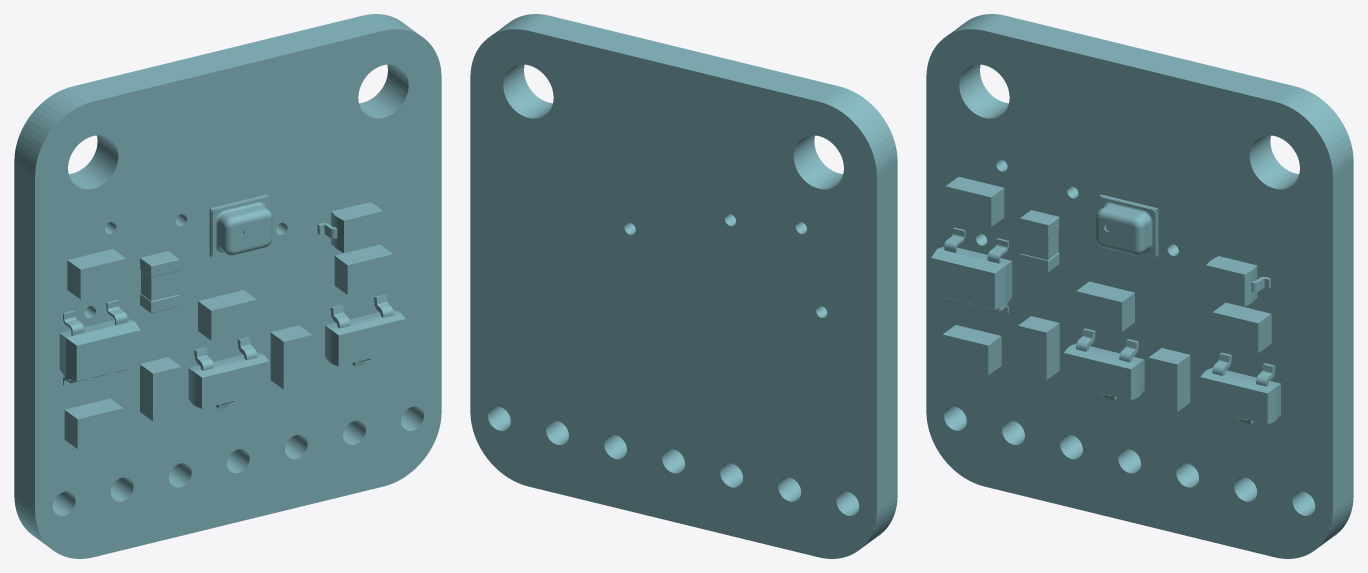
Rendered from adafruit-bme280-2652.glb.
3 renders of one model, left to right at view 1: azimuth 30°, elevation 25°; view 2: azimuth 150°, elevation 25°; view 3: azimuth 330°, elevation 25°, orthographic.
Bounding box in the file's own units: 0.0178 × 0.0191 × 0.00297.
